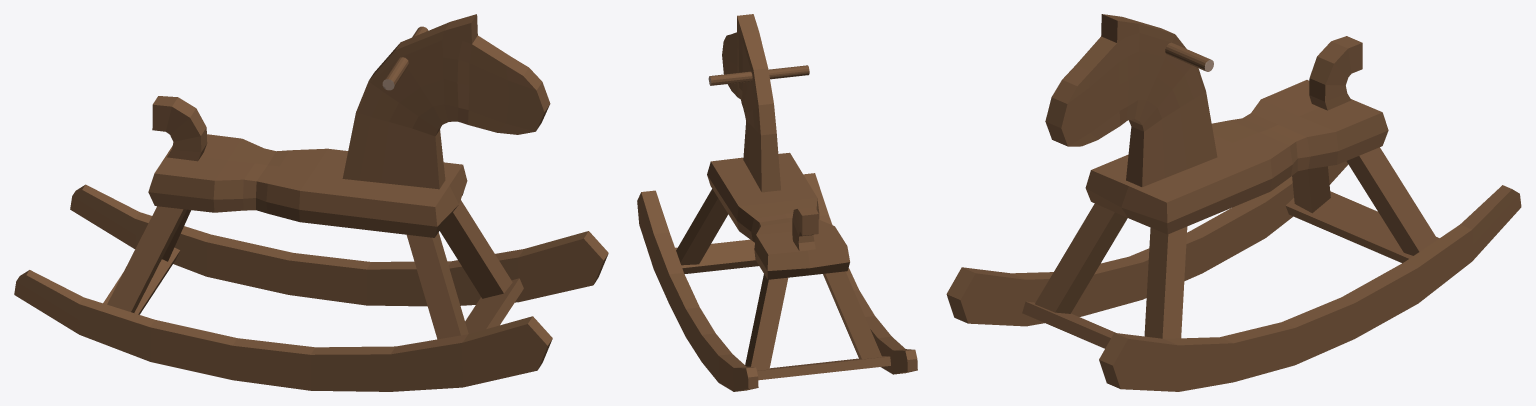
Rendered from Childrens_Toy_Horse.fbx.
3 views of the same model, side by side, from view 1: azimuth 30°, elevation 25°; view 2: azimuth 150°, elevation 25°; view 3: azimuth 270°, elevation 25° (orthographic). The views are drawn at different scales.
Visible parts, largest first — view 1: Childrens_Toy_Horse; view 2: Childrens_Toy_Horse; view 3: Childrens_Toy_Horse.
Part boxes in pixels (x1,y1,x2,y2): Childrens_Toy_Horse: (14,14,608,391); Childrens_Toy_Horse: (637,14,917,391); Childrens_Toy_Horse: (946,14,1521,391).
Bounding box in the file's own units: 143 × 144 × 97.99.
